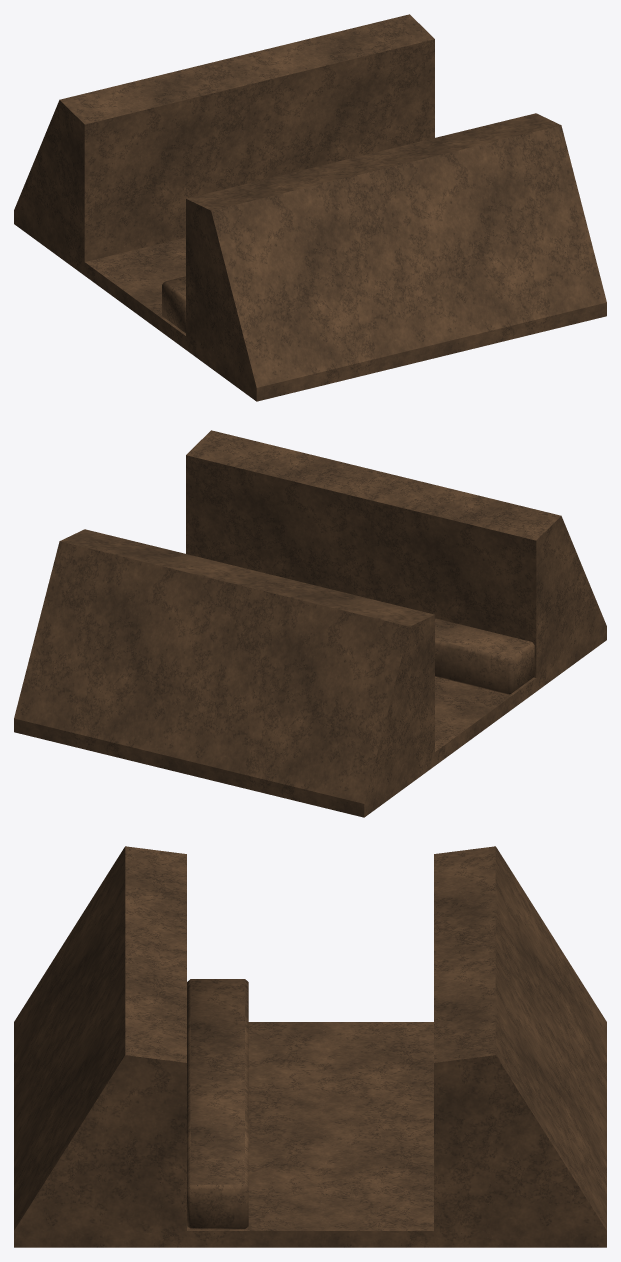
Rendered from SM_Trinchera_Recta_4m.fbx.
3 renders of one model, top to bottom at view 1: azimuth 30°, elevation 25°; view 2: azimuth 150°, elevation 25°; view 3: azimuth 270°, elevation 25°, orthographic. The views are drawn at different scales.
Visible parts, largest first — view 1: SM_Trinchera_Recta_4m; view 2: SM_Trinchera_Recta_4m; view 3: SM_Trinchera_Recta_4m.
Boxes of the visible parts, left/top/right/bottom form: SM_Trinchera_Recta_4m: left=14, top=14, right=606, bottom=401; SM_Trinchera_Recta_4m: left=14, top=430, right=606, bottom=817; SM_Trinchera_Recta_4m: left=14, top=846, right=606, bottom=1247.
Size of what is drawn, in the model's own units: 4 by 4.8 by 1.72.
